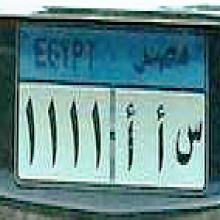1: (89, 100, 103, 166), (68, 100, 79, 168), (50, 97, 58, 164), (26, 97, 33, 166)
alif: (151, 100, 167, 175), (122, 102, 136, 171)
seen: (174, 117, 204, 169)
